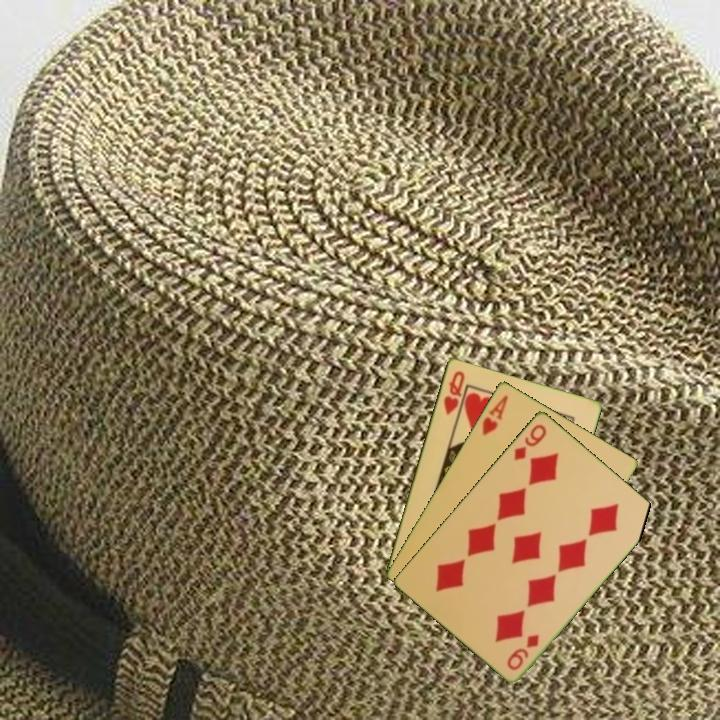9d: (510, 420, 550, 463), (503, 630, 542, 673)
Ah: (478, 391, 511, 438)
Qh: (440, 367, 468, 418)
